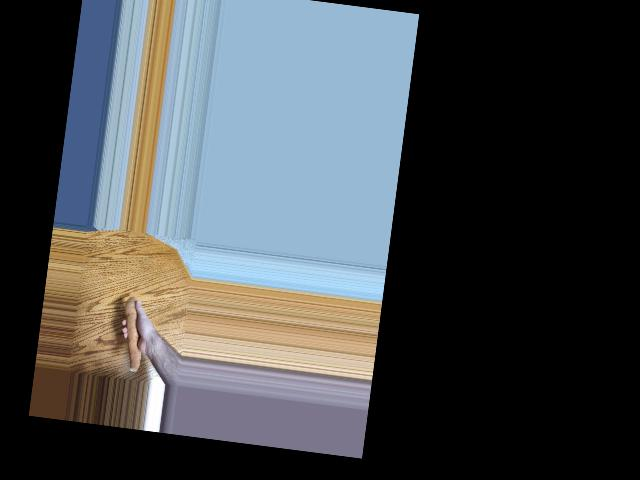sweet_potato: (115, 296, 151, 376)
